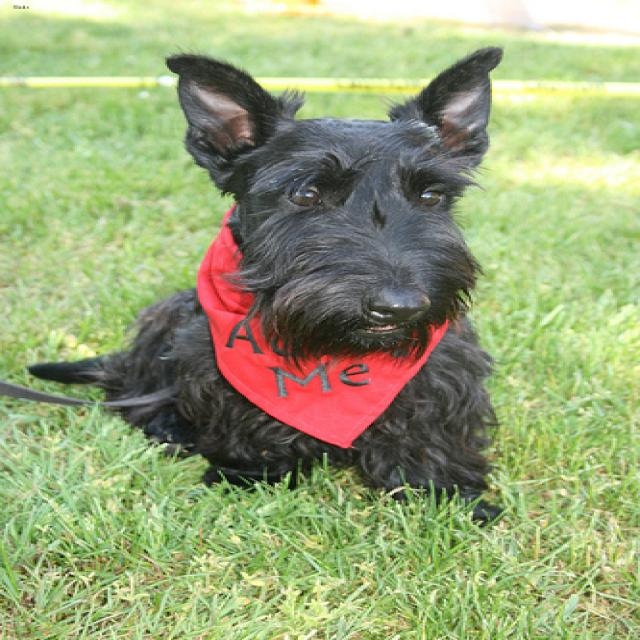dog-scottish_terrier: (8, 36, 515, 529)
